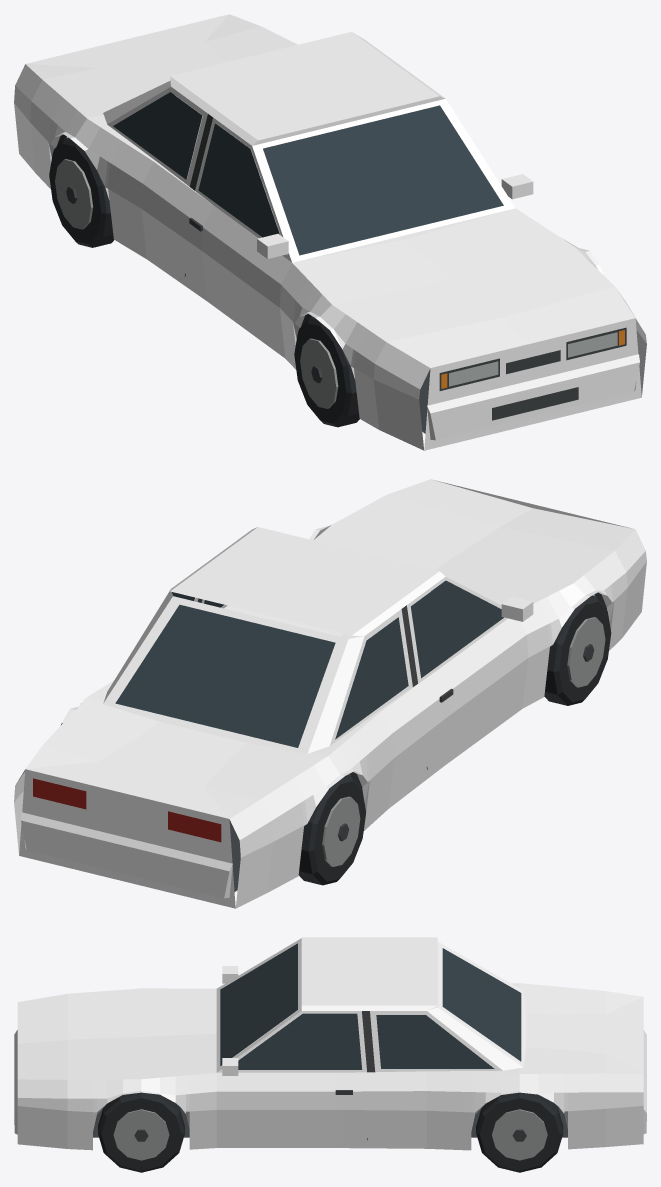
File: whitlock_granite_s.glb
3 renders of one model, top to bottom at view 1: azimuth 30°, elevation 25°; view 2: azimuth 150°, elevation 25°; view 3: azimuth 270°, elevation 25°, orthographic. The views are drawn at different scales.
Visible parts, largest first — view 1: whitlock_granite_s; view 2: whitlock_granite_s; view 3: whitlock_granite_s.
Part boxes in pixels (box(x1,y1,x2,y2)): whitlock_granite_s: box(14, 14, 646, 450); whitlock_granite_s: box(14, 479, 646, 908); whitlock_granite_s: box(14, 937, 646, 1172).
Bounding box in the file's own units: 1.82 × 1.25 × 4.7.
Materials: 8 (1 with a texture image).
